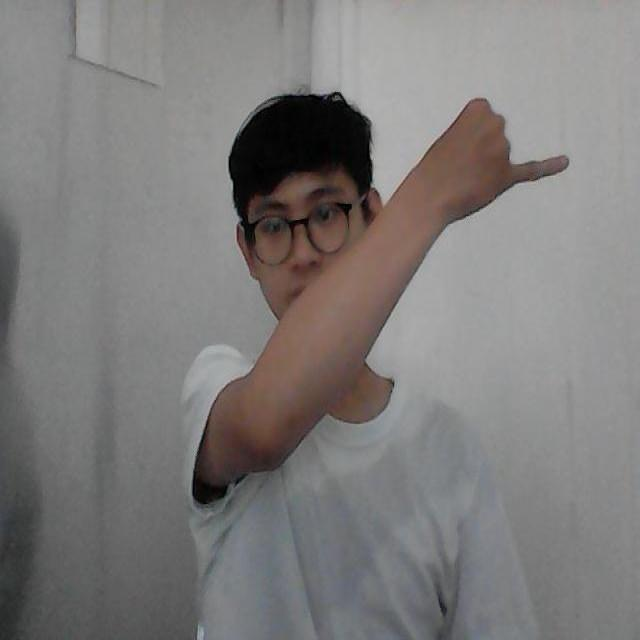J: (403, 88, 577, 240)
